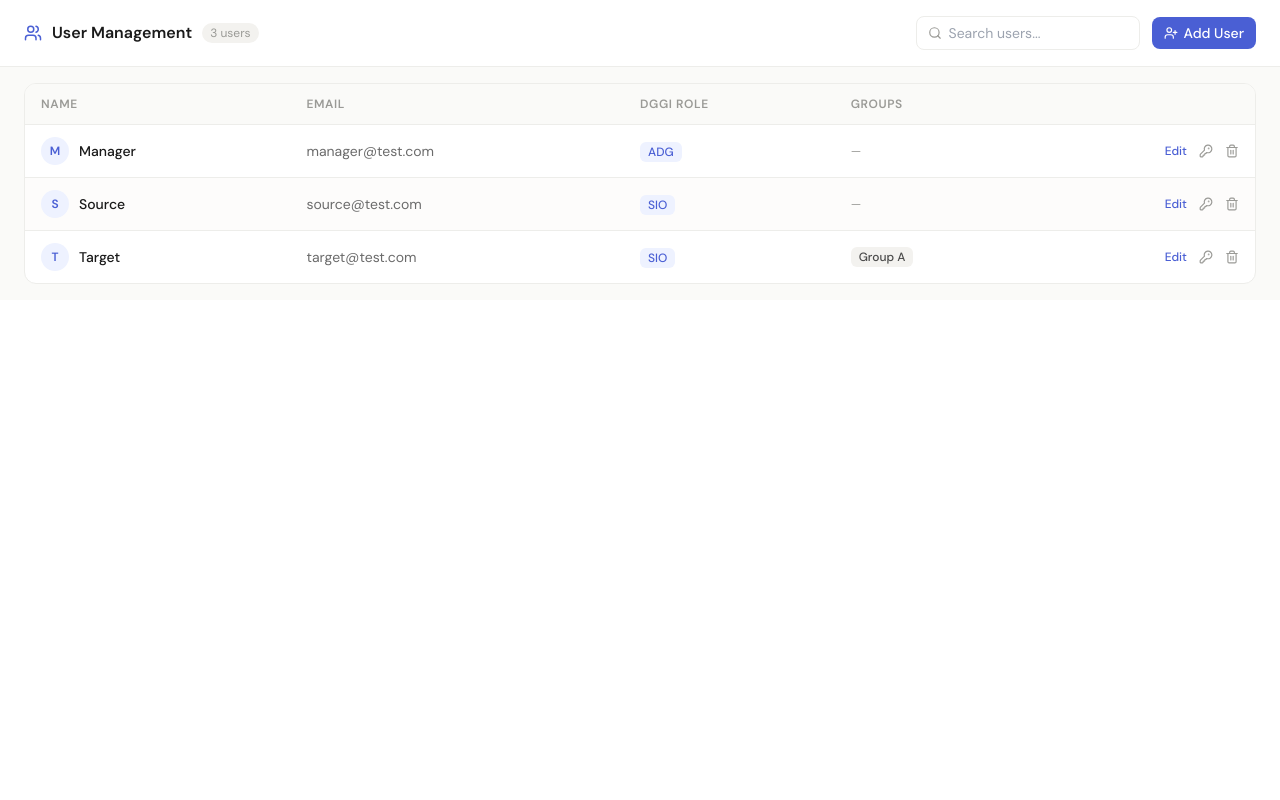
Test: requires a replacement SIO and group before removing a user with cases
Expected: the text "Source" is shown, [79, 194, 125, 214]
Click the button titled "Remove user" in the row of "source@test.com": click(1232, 204) [1225, 197, 1239, 211]
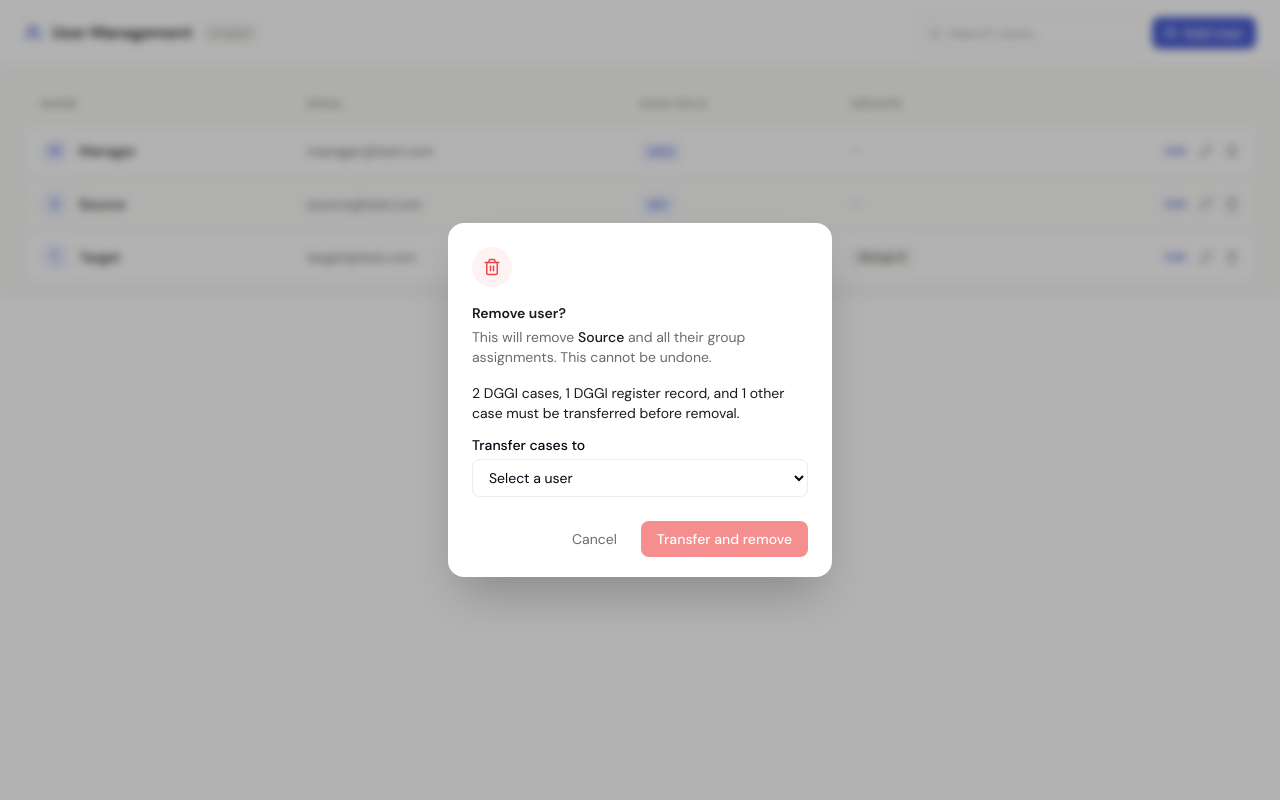
Now the text "must be transferred before removal" is shown, box [503, 404, 739, 422]
Now the button "Transfer and remove" is disabled, box [641, 521, 808, 557]
Select "Target" in the dropdown labelled "Transfer cases to": (640, 478) [472, 459, 808, 497]
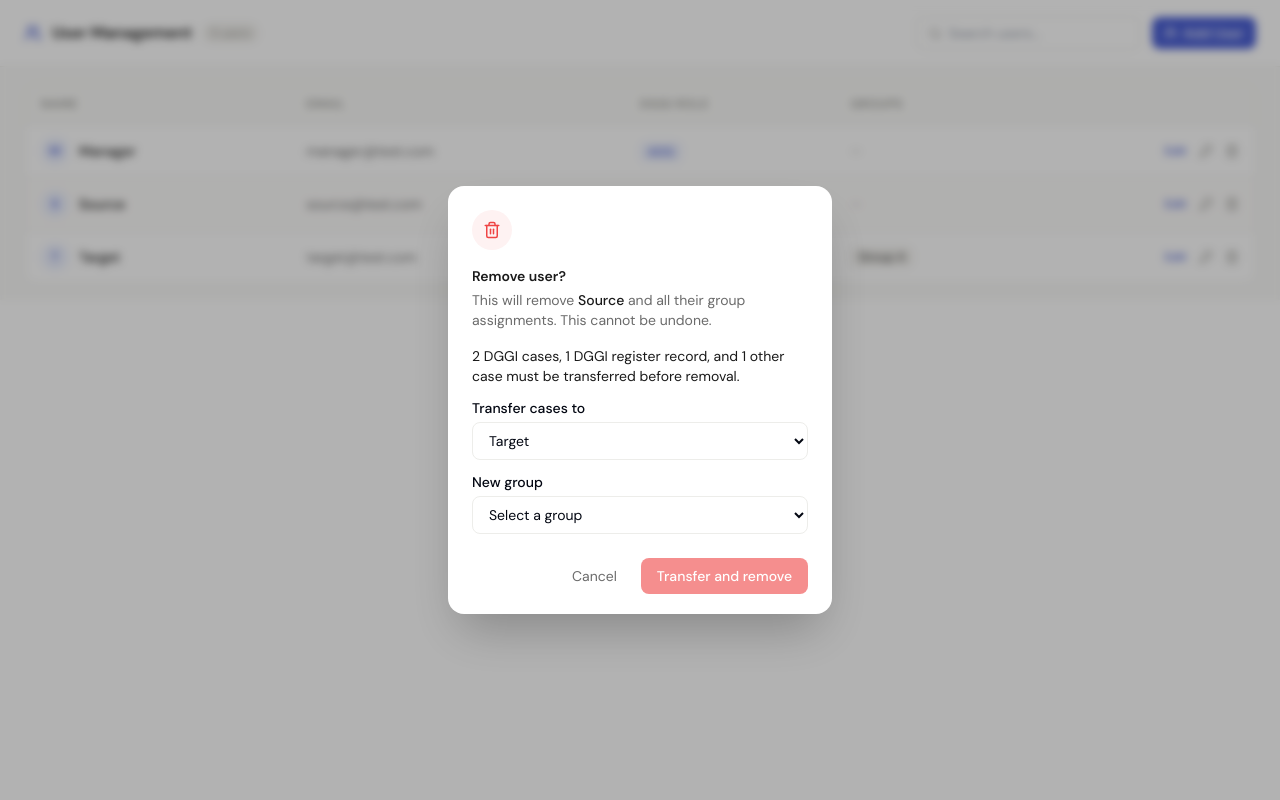
Now the button "Transfer and remove" is disabled, box [641, 558, 808, 594]
Select "Group A" in the dropdown labelled "New group": (640, 515) [472, 496, 808, 534]
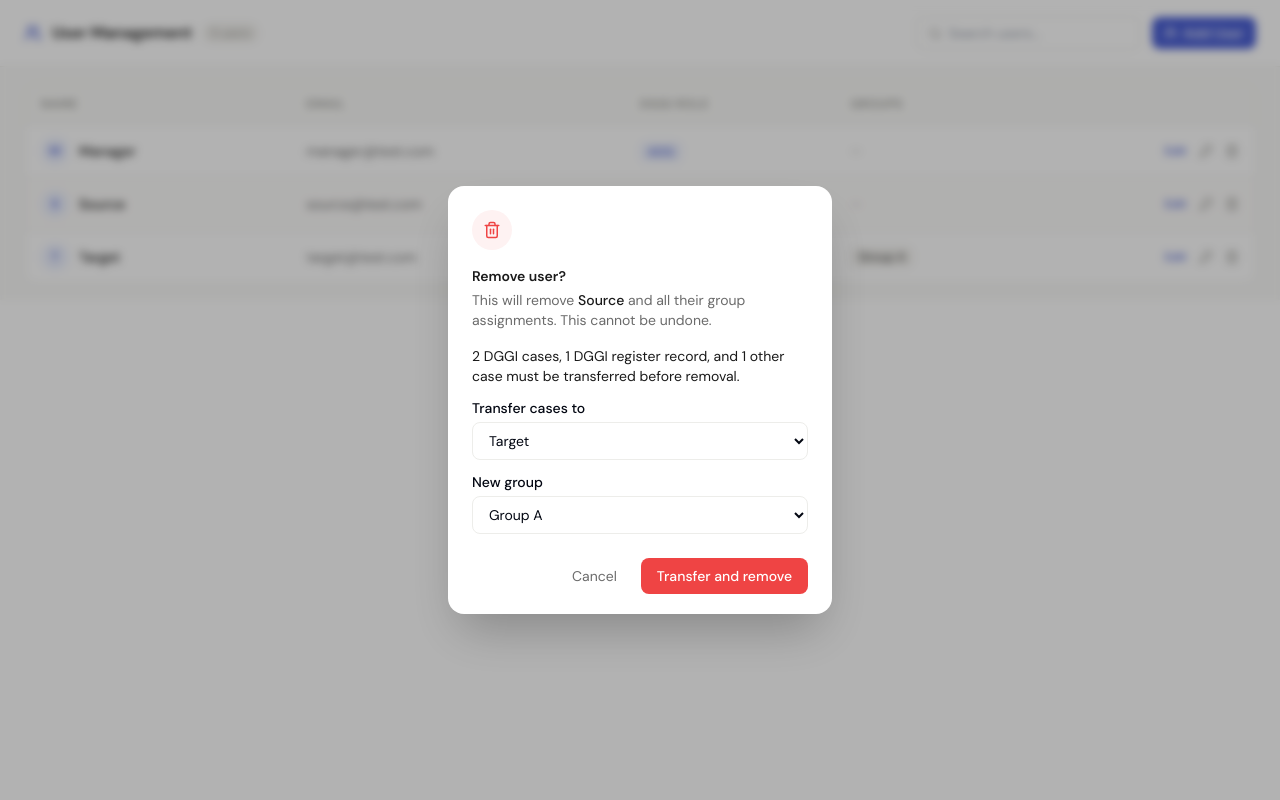
Click the button "Transfer and remove": click(724, 576) [641, 558, 808, 594]
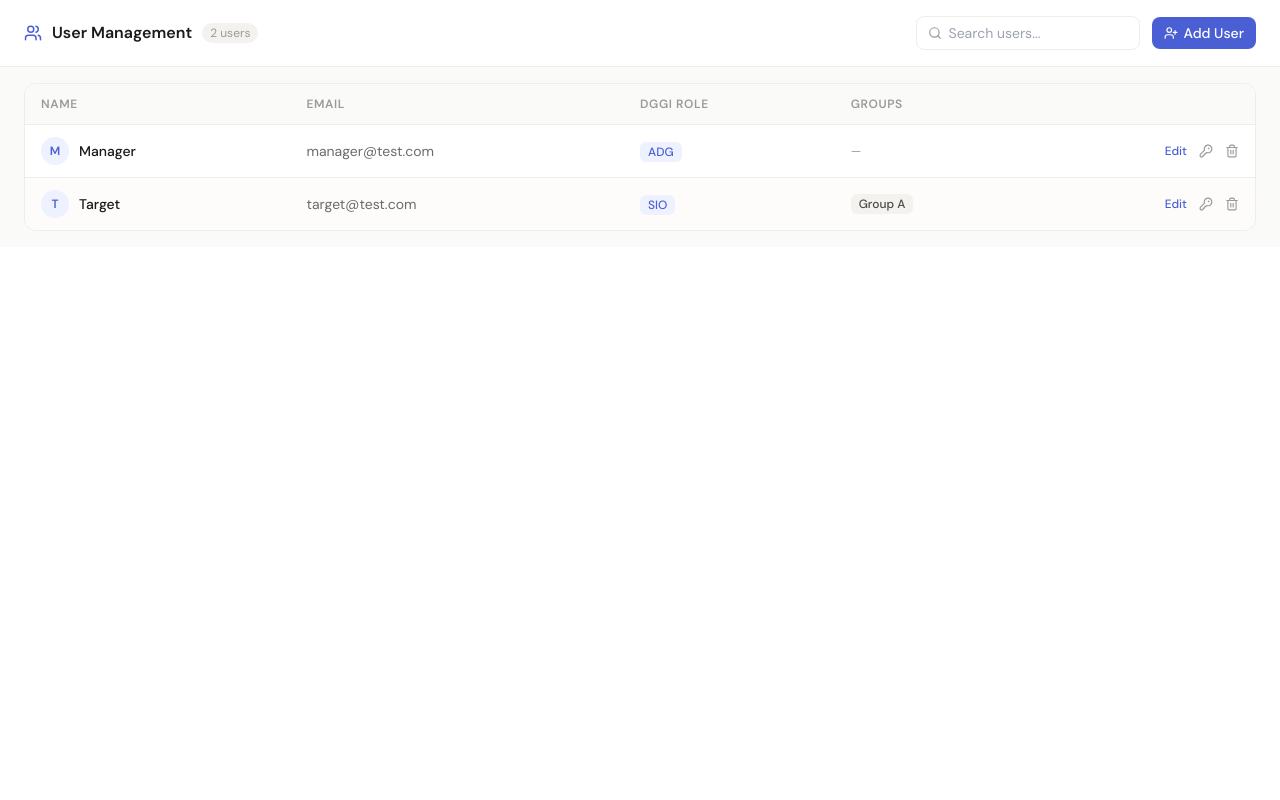
Now the text "Source" is gone
